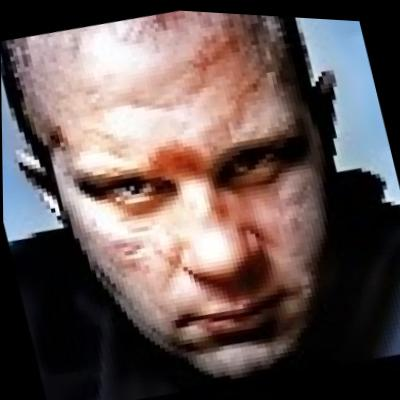angry: (21, 1, 363, 400)
